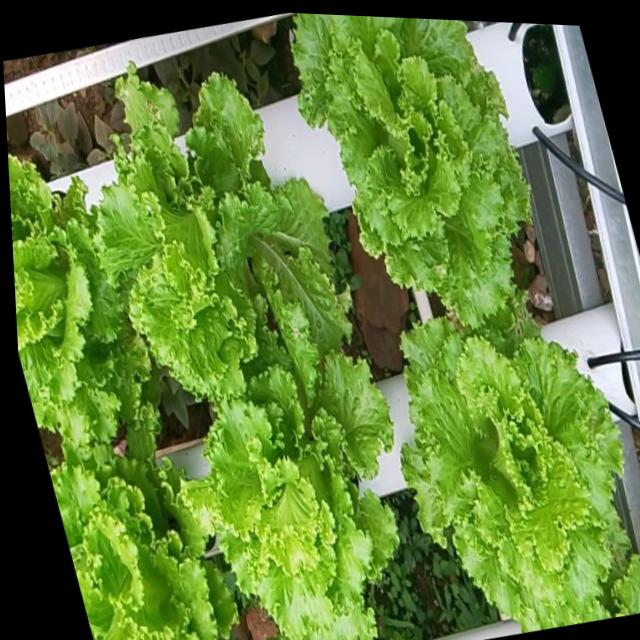Mature: (81, 70, 345, 409), (287, 13, 530, 339), (396, 325, 640, 635), (180, 344, 392, 640), (8, 154, 137, 442), (46, 445, 226, 640)
